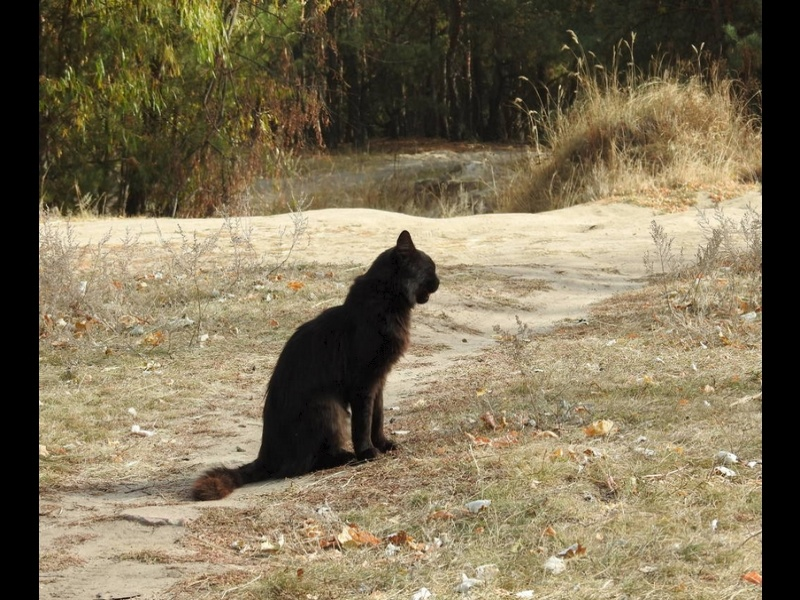cat: (192, 230, 441, 503)
